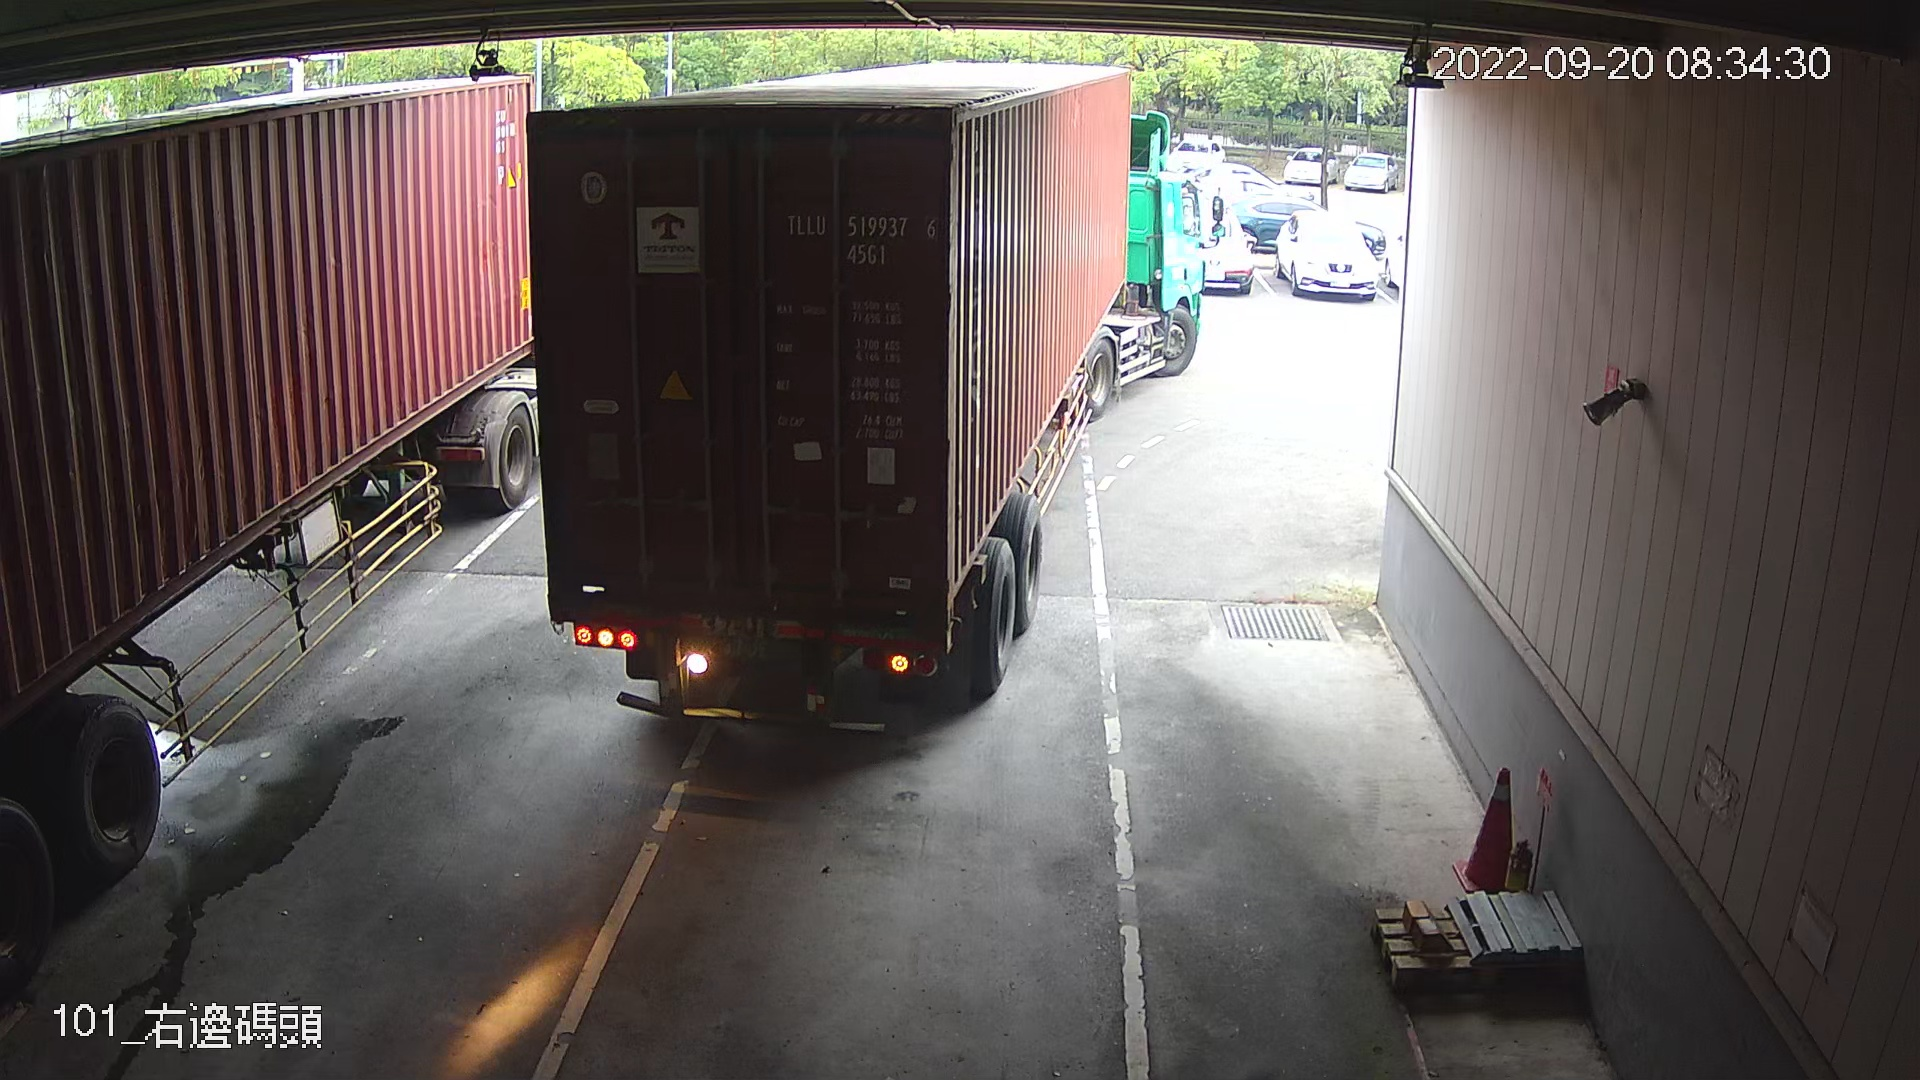container: (775, 202, 944, 273)
